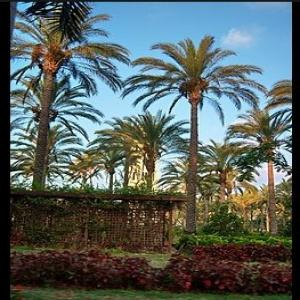palm tree: (120, 33, 266, 234), (9, 3, 129, 190), (226, 107, 291, 236)
